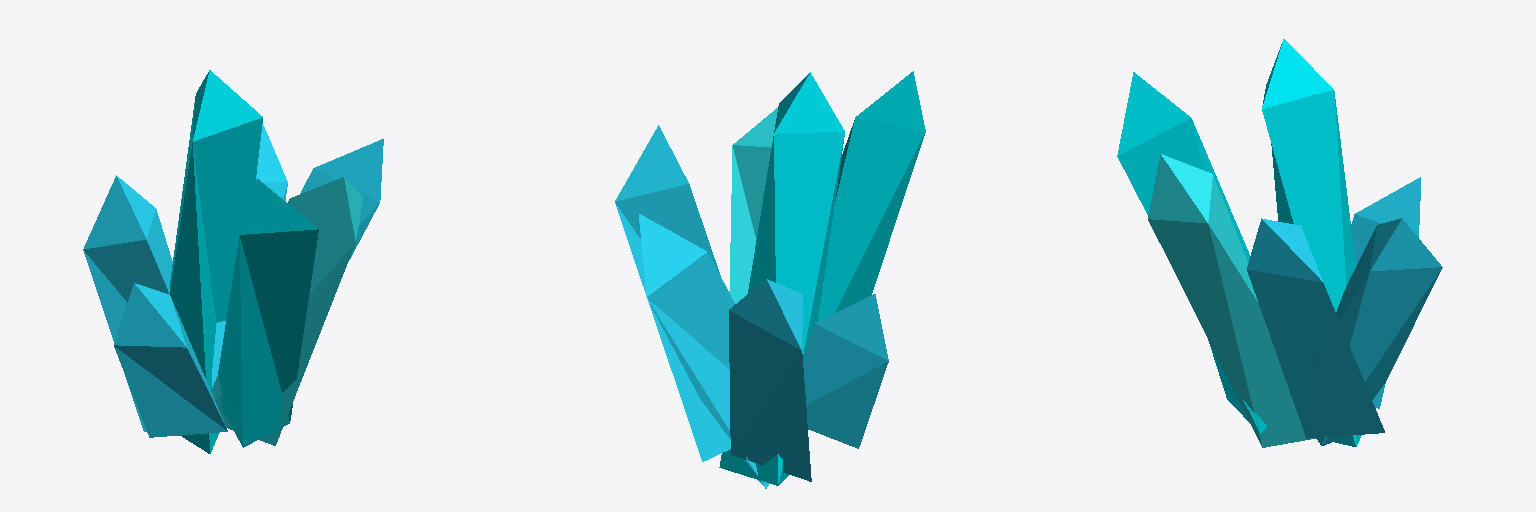
File: water.obj
3 renders of one model, left to right at view 1: azimuth 30°, elevation 25°; view 2: azimuth 150°, elevation 25°; view 3: azimuth 270°, elevation 25°, orthographic.
Parts seen in each view (by area): view 1: Cube5_sep30; view 2: Cube5_sep30; view 3: Cube5_sep30.
Part boxes in pixels (left/top/right/bottom): Cube5_sep30: left=83, top=70, right=383, bottom=453; Cube5_sep30: left=615, top=71, right=925, bottom=488; Cube5_sep30: left=1117, top=39, right=1442, bottom=447.
Size of the model in its own units: 1.55 by 2.21 by 1.66.